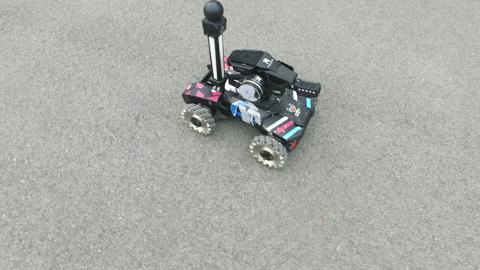chariot: (180, 1, 321, 170)
